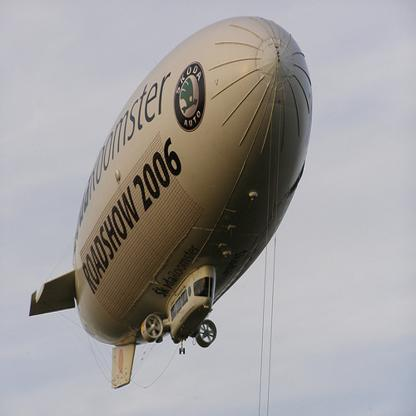Airship: (27, 14, 313, 390)
